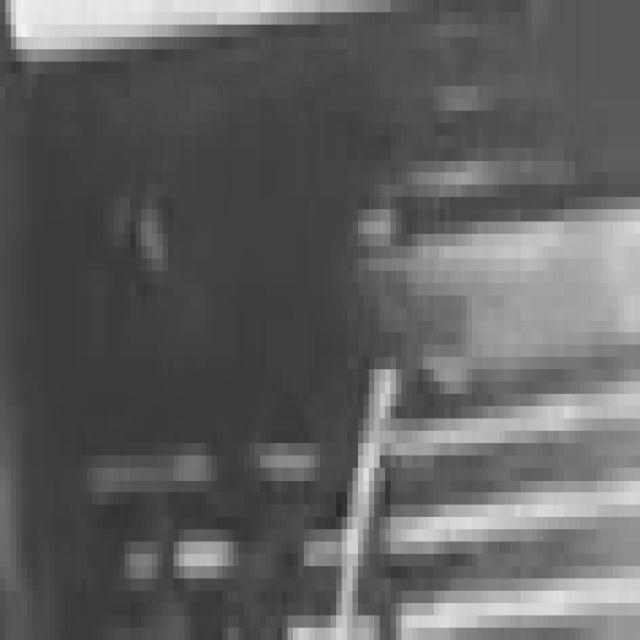stick: (306, 341, 414, 640)
